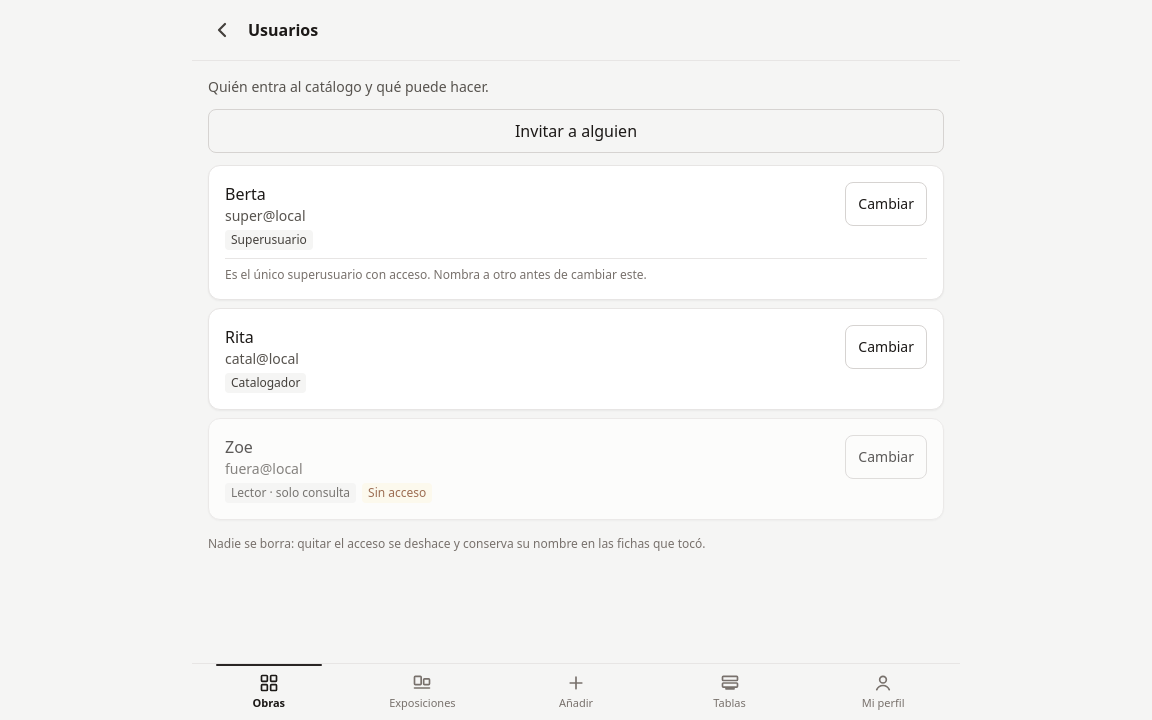
Test: cambiar el rol › llega a la base como un cambio de ESA fila
The image size is (1152, 720).
Check: the text "Rita" is shown, box [225,326,254,348]
Click the button "Cambiar" in the row of "catal@local".
click(886, 347)  # box [845,325,927,369]
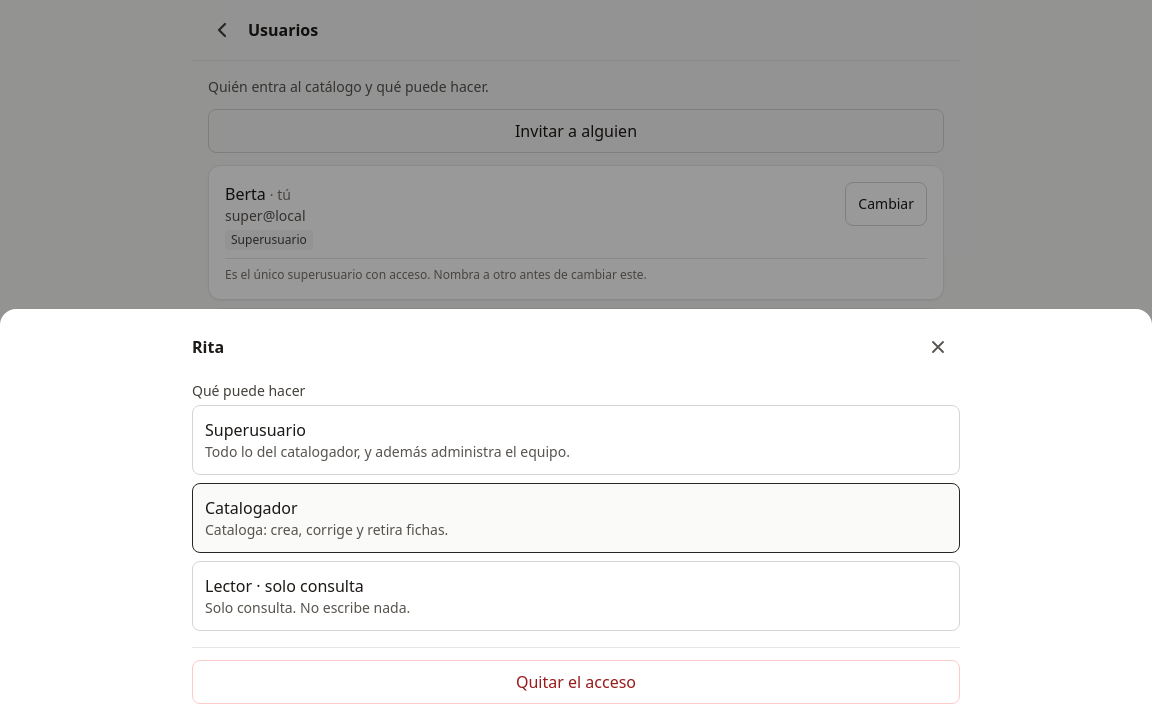
Click the text "Lector · solo consulta".
click(284, 586)  # box [205,575,364,597]
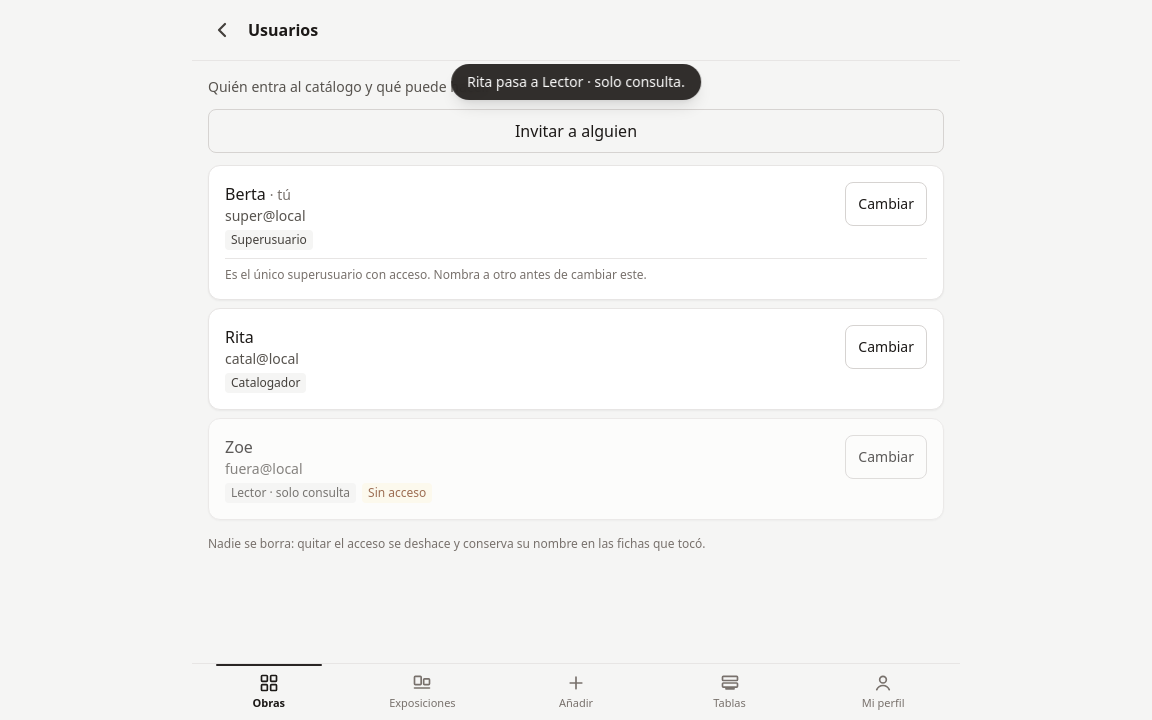
Check: the text "Rita pasa a Lector · solo consulta." is shown, box [451,64,701,100]
